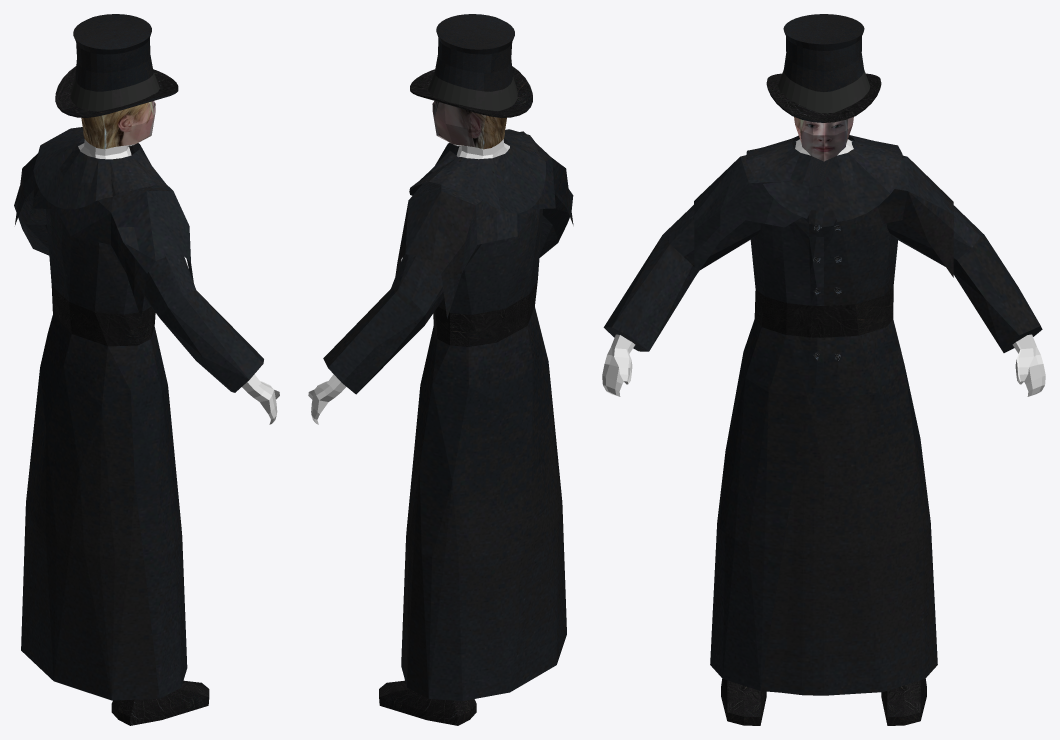
File: sizeReference.glb
The picture shows the model from 3 angles, left to right: view 1: azimuth 30°, elevation 25°; view 2: azimuth 150°, elevation 25°; view 3: azimuth 270°, elevation 25°; orthographic projection. The views are drawn at different scales.
Parts seen in each view (by area): view 1: cloak, hat, head, boots, body; view 2: cloak, hat, head, boots, body; view 3: cloak, hat, boots, body, head.
Boxes of the visible parts, x1=… form: cloak: x1=14, y1=127, x2=263, y2=700; hat: x1=55, y1=14, x2=178, y2=117; head: x1=81, y1=101, x2=155, y2=149; boots: x1=111, y1=680, x2=209, y2=725; body: x1=78, y1=139, x2=279, y2=424; cloak: x1=323, y1=129, x2=573, y2=700; hat: x1=410, y1=14, x2=532, y2=117; head: x1=432, y1=101, x2=506, y2=149; boots: x1=379, y1=680, x2=476, y2=725; body: x1=308, y1=139, x2=509, y2=424; cloak: x1=603, y1=135, x2=1042, y2=695; hat: x1=766, y1=14, x2=881, y2=122; boots: x1=721, y1=679, x2=926, y2=725; body: x1=602, y1=139, x2=1045, y2=396; head: x1=794, y1=117, x2=853, y2=161.
Size of the model in its own units: 20.2 by 90.28 by 54.21.
Materials: 3 (2 with a texture image).
